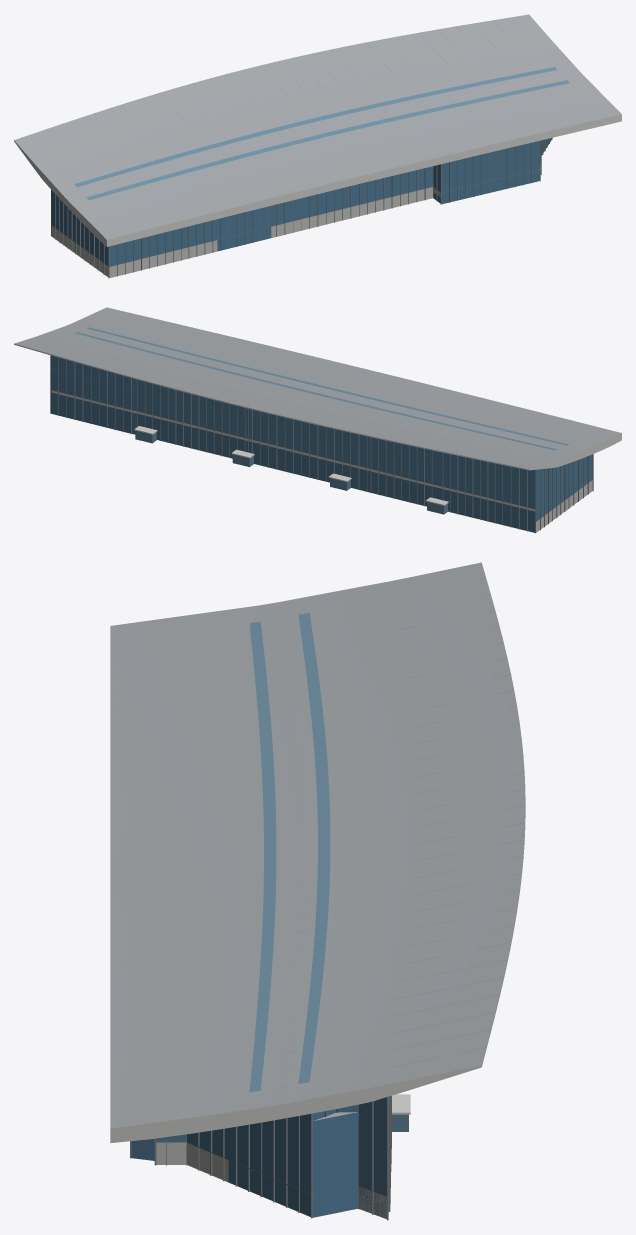
File: atl-international-terminal.glb
The picture shows the model from 3 angles, top to bottom: view 1: azimuth 30°, elevation 25°; view 2: azimuth 150°, elevation 25°; view 3: azimuth 270°, elevation 25°; orthographic projection. The views are drawn at different scales.
Parts seen in each view (by area): view 1: lod2_lm_stone, lod1_lm_stone, lod0_lm_metal, lod2_bld_glass, lod1_bld_glass, lod0_lm_glass, lod1_bld_wall, lod0_bld_glass, lod0_bld_wall; view 2: lod2_lm_stone, lod0_bld_glass, lod0_lm_metal, lod1_lm_stone, lod0_lm_glass, lod0_lm_stone, lod0_bld_wall; view 3: lod2_lm_stone, lod1_lm_stone, lod2_bld_glass, lod0_lm_glass, lod0_lm_metal, lod1_bld_glass, lod0_bld_wall, lod0_bld_glass.
Boxes of the visible parts, x1=… form: lod2_lm_stone: x1=14, y1=15, x2=621, y2=245; lod1_lm_stone: x1=14, y1=19, x2=621, y2=246; lod0_lm_metal: x1=14, y1=14, x2=621, y2=278; lod2_bld_glass: x1=217, y1=137, x2=552, y2=251; lod1_bld_glass: x1=109, y1=166, x2=432, y2=266; lod0_lm_glass: x1=74, y1=67, x2=569, y2=200; lod1_bld_wall: x1=109, y1=187, x2=432, y2=277; lod0_bld_glass: x1=51, y1=141, x2=540, y2=265; lod0_bld_wall: x1=51, y1=164, x2=540, y2=277; lod2_lm_stone: x1=14, y1=307, x2=621, y2=470; lod0_bld_glass: x1=50, y1=355, x2=592, y2=532; lod0_lm_metal: x1=14, y1=311, x2=621, y2=533; lod1_lm_stone: x1=31, y1=307, x2=620, y2=469; lod0_lm_glass: x1=74, y1=327, x2=569, y2=514; lod0_lm_stone: x1=51, y1=390, x2=535, y2=511; lod0_bld_wall: x1=536, y1=480, x2=592, y2=532; lod2_lm_stone: x1=110, y1=562, x2=525, y2=1142; lod1_lm_stone: x1=110, y1=576, x2=525, y2=1142; lod2_bld_glass: x1=131, y1=1112, x2=386, y2=1218; lod0_lm_glass: x1=249, y1=613, x2=408, y2=1131; lod0_lm_metal: x1=110, y1=562, x2=525, y2=1220; lod1_bld_glass: x1=302, y1=1097, x2=386, y2=1195; lod0_bld_wall: x1=156, y1=1142, x2=228, y2=1182; lod0_bld_glass: x1=156, y1=1104, x2=357, y2=1158.
Size of the model in its own units: 212 by 34.52 by 74.
